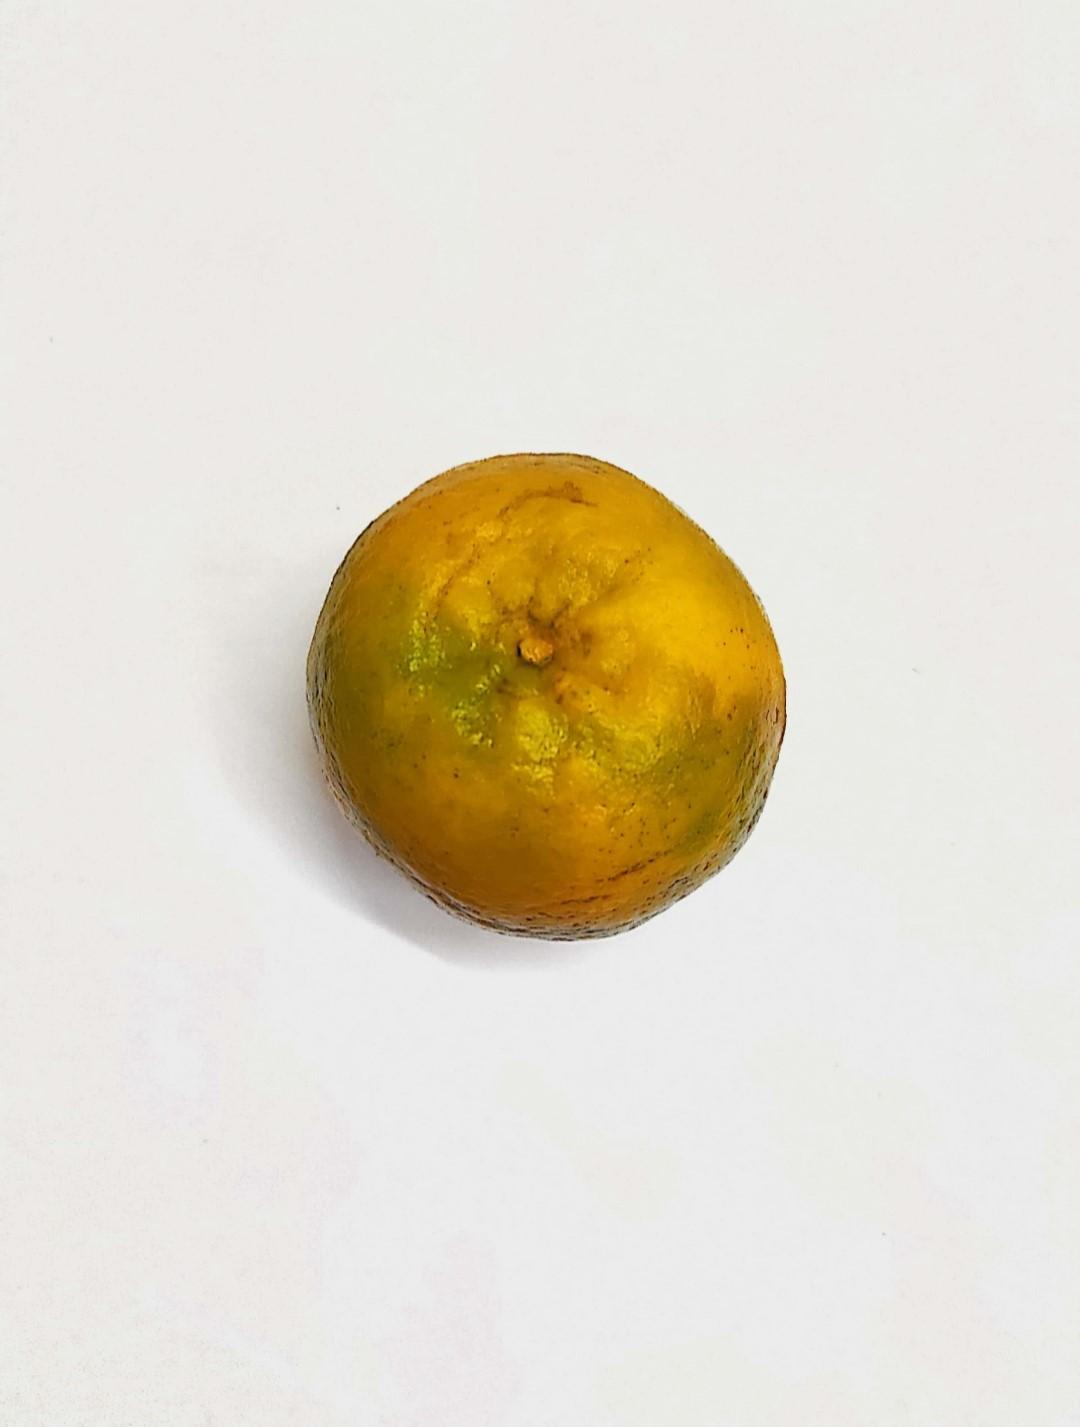Ripe: (317, 447, 781, 940)
